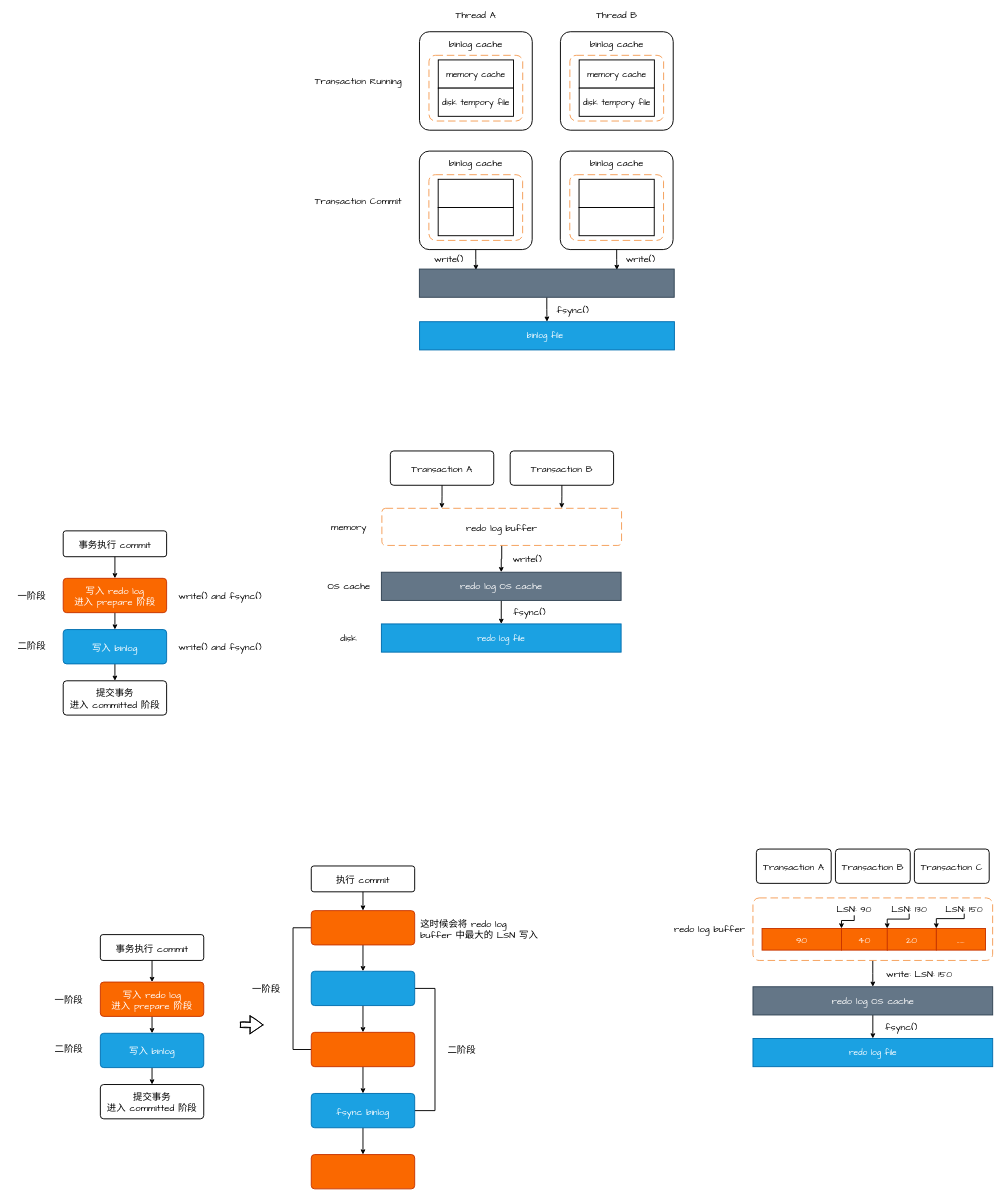
Some shapes in this 1001 by 1197 pixel diagram are drawn without their labels. Each missing label, with the centre of its shape:
binlog file OS cache: (x=546, y=283)
fsync redo log: (x=363, y=1049)
redo log committed: (x=363, y=1171)
write binlog: (x=363, y=988)
write redo log 进入 prepare 阶段: (x=363, y=927)
